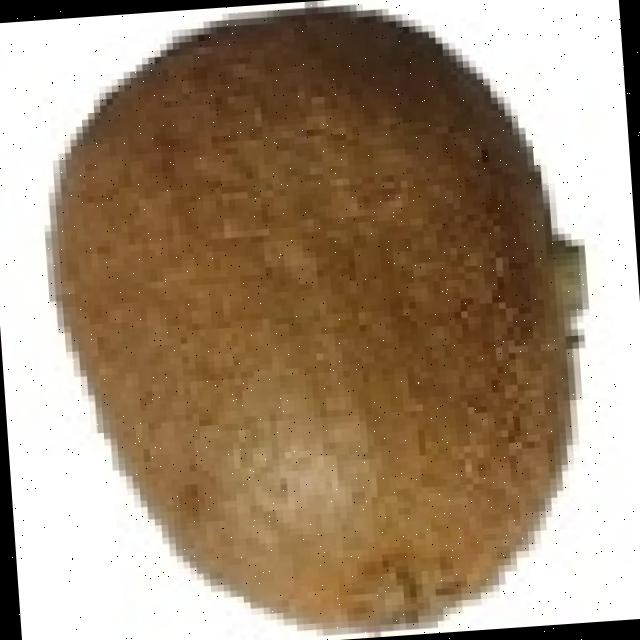kiwi: (48, 19, 570, 637)
